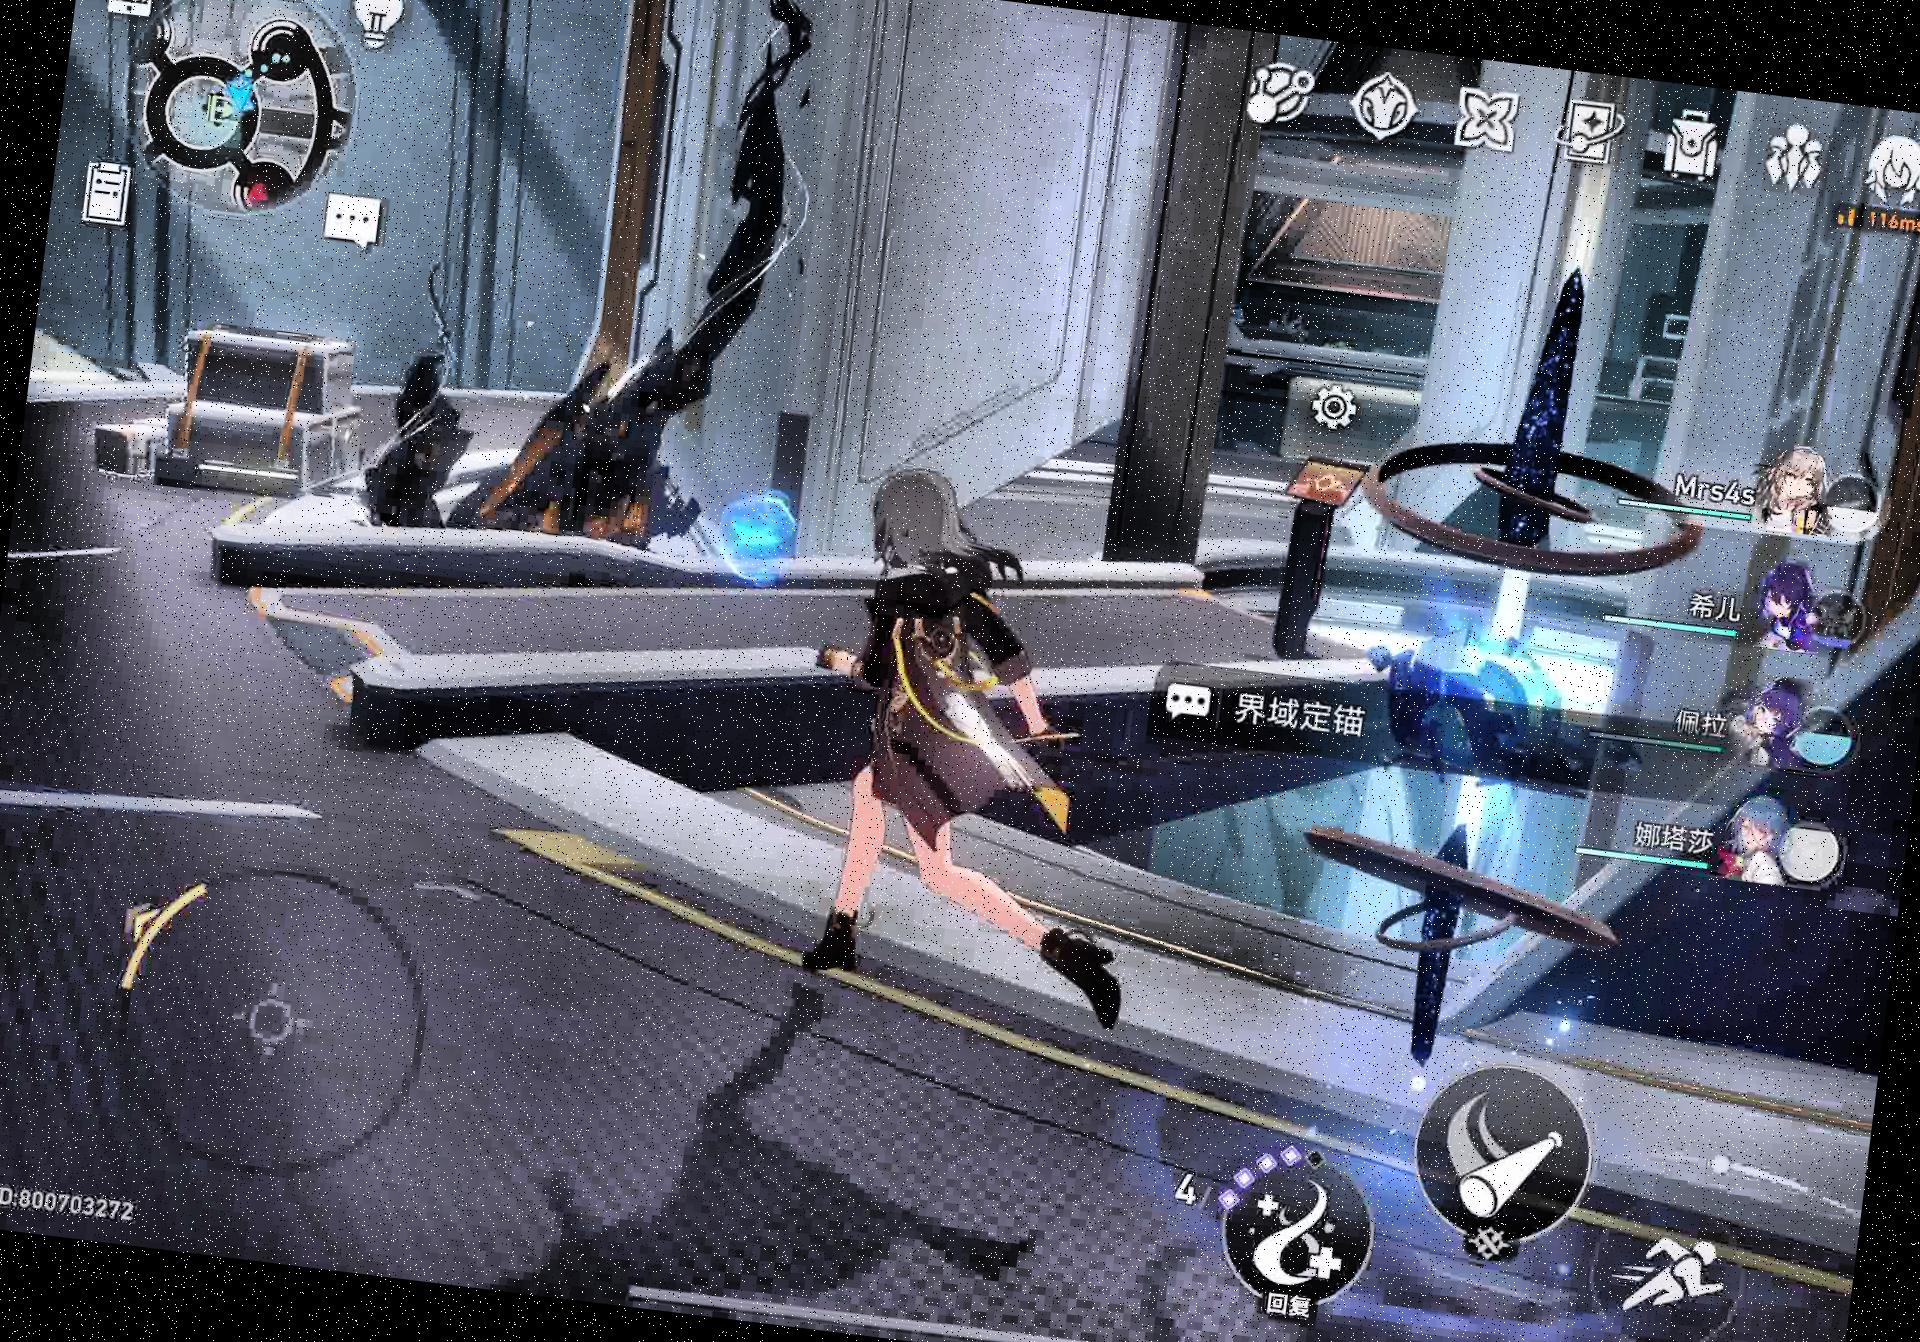Box: (82, 309, 381, 521)
Self: (766, 454, 1189, 1060)
